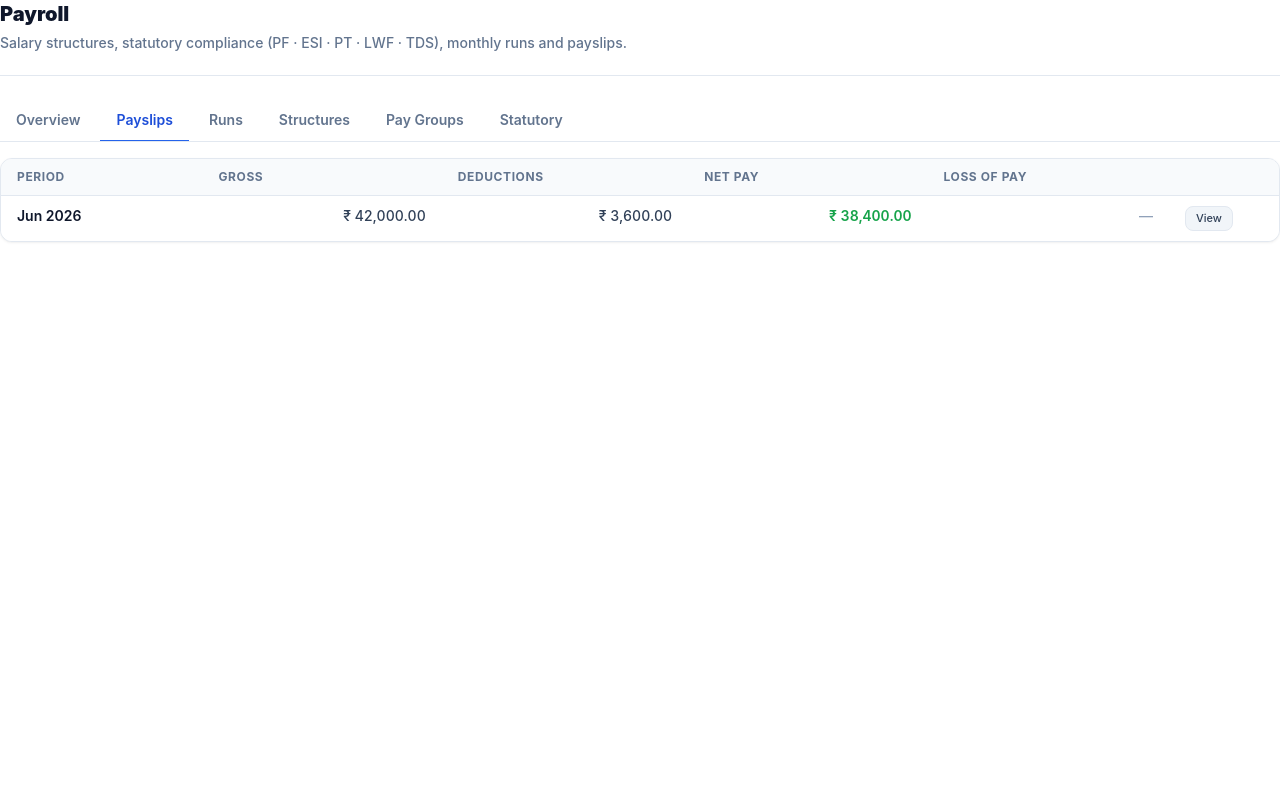
it: payslips › opens a breakdown that separates employer contributions from net
Click the button "View": (1209, 219) [1185,206,1233,232]
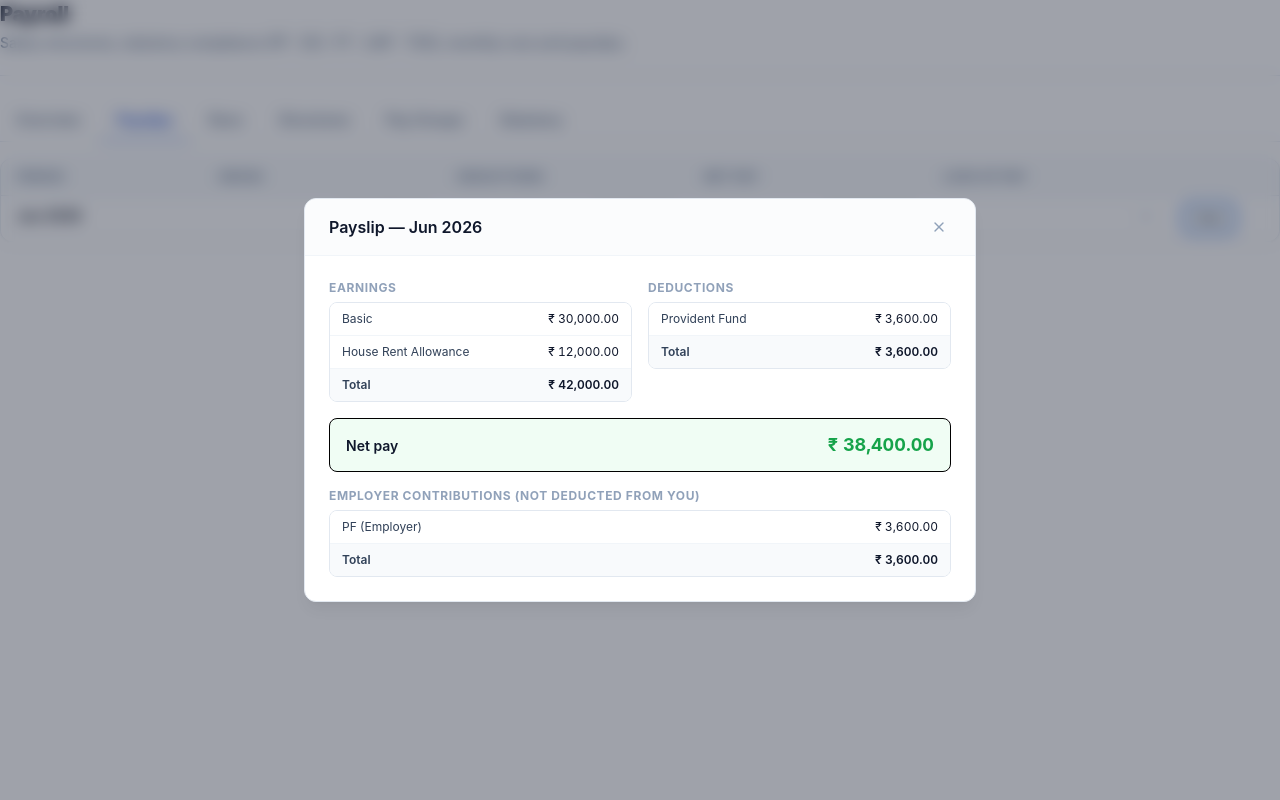
Result: the heading "Payslip — Jun 2026" is shown at [329,215,482,239]
Result: the heading "Earnings" is shown at [329,280,396,295]
Result: the heading "Employer contributions (not deducted from you)" is shown at [329,488,700,503]
